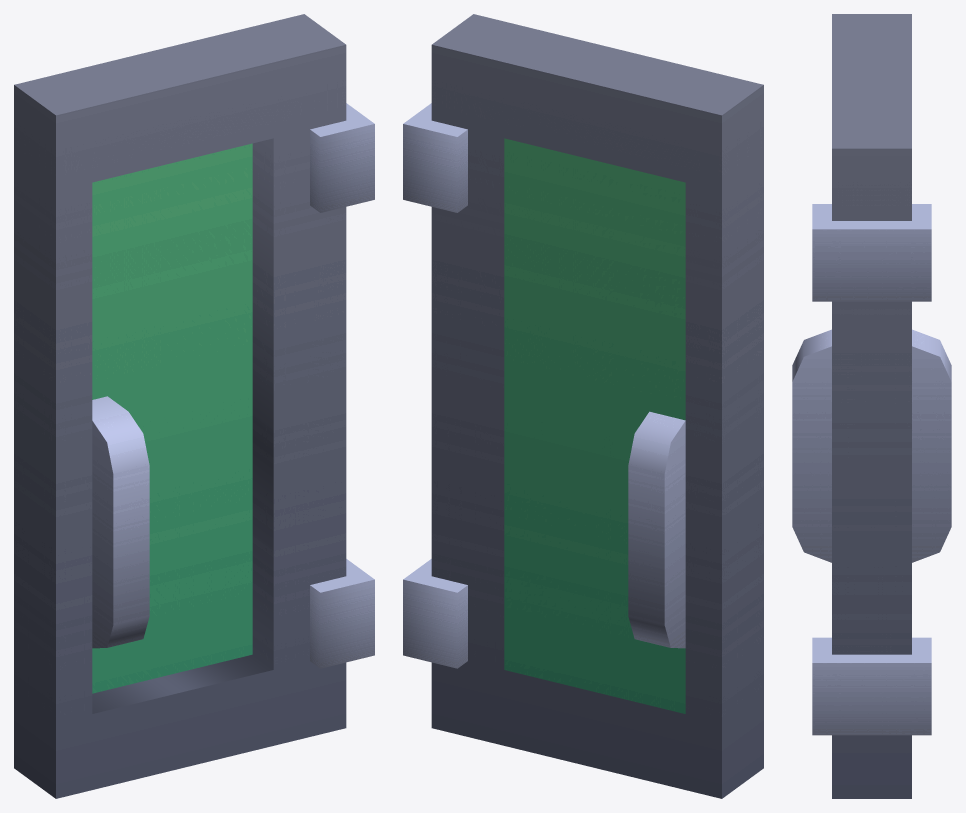
The model's file is door-right.001_lev2.glb.
3 renders of one model, left to right at view 1: azimuth 30°, elevation 25°; view 2: azimuth 150°, elevation 25°; view 3: azimuth 270°, elevation 25°, orthographic. The views are drawn at different scales.
Parts seen in each view (by area): view 1: door-right.001_lev2; view 2: door-right.001_lev2; view 3: door-right.001_lev2.
Boxes of the visible parts, box(x1,y1,x2,y2) form: door-right.001_lev2: box(14, 14, 374, 798); door-right.001_lev2: box(403, 14, 763, 798); door-right.001_lev2: box(792, 14, 951, 798).
Size of the model in its own units: 2.12 by 4.5 by 1.
1 material, 1 textured.
